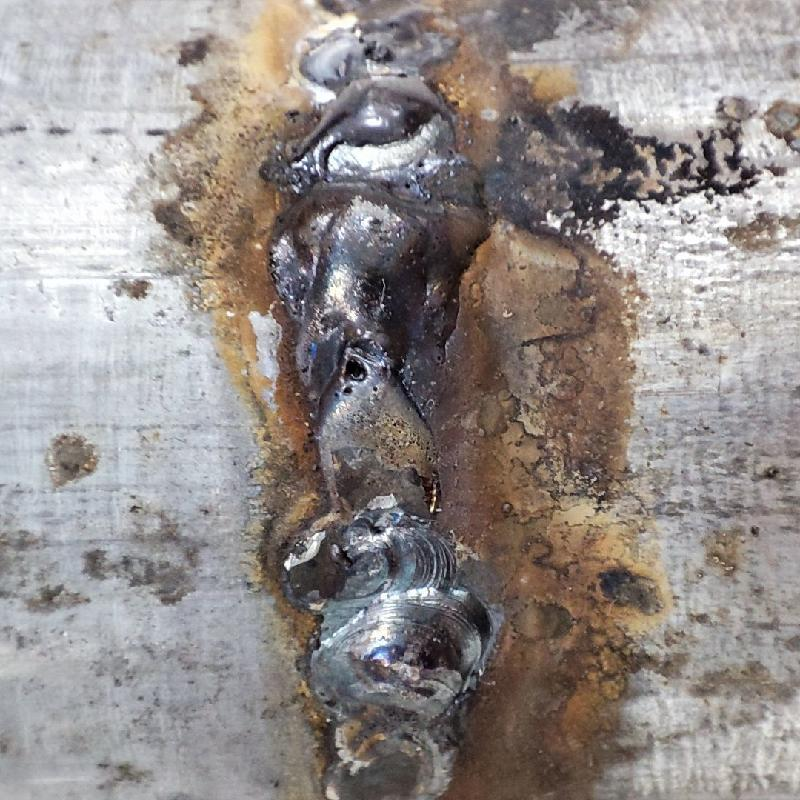Not_fully_soldered: (280, 363, 483, 586), (288, 0, 466, 80)
Surface_pores: (329, 350, 388, 409)
Weld: (277, 85, 486, 361)
